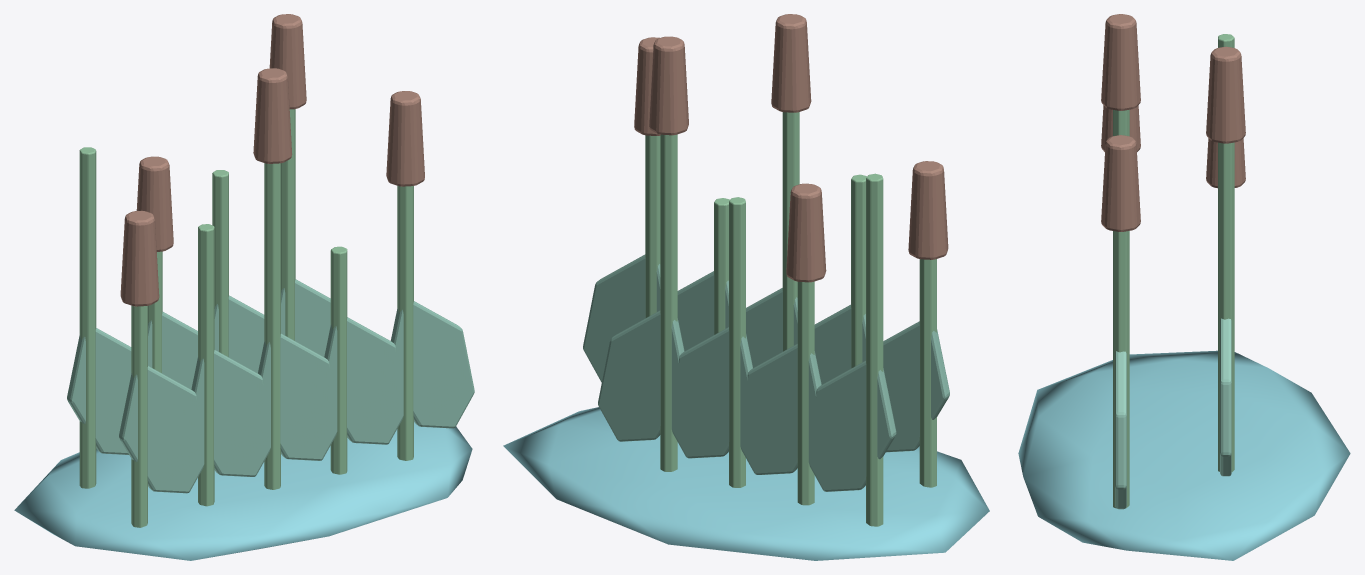
File: lagoon_pond_reeds.glb
The picture shows the model from 3 angles, left to right: view 1: azimuth 30°, elevation 25°; view 2: azimuth 150°, elevation 25°; view 3: azimuth 270°, elevation 25°; orthographic projection. The views are drawn at different scales.
Visible parts, largest first — view 1: lagoon_pond_reeds.001; view 2: lagoon_pond_reeds.001; view 3: lagoon_pond_reeds.001.
Boxes of the visible parts, x1,y1,x2,y2 form: lagoon_pond_reeds.001: (14, 14, 474, 560); lagoon_pond_reeds.001: (503, 14, 989, 560); lagoon_pond_reeds.001: (1018, 14, 1350, 560).
Size of the model in its own units: 3.09 by 3.06 by 2.06.
